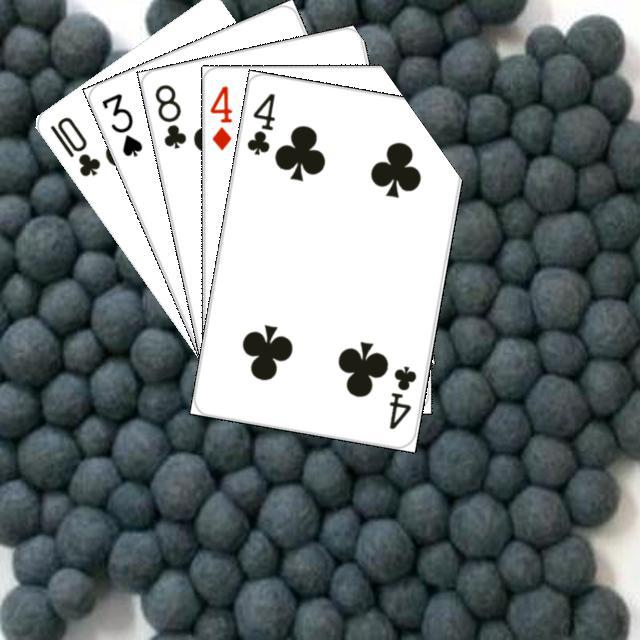10c: (45, 111, 102, 179)
3s: (97, 88, 145, 159)
4c: (241, 88, 277, 157), (384, 361, 418, 431)
4d: (206, 81, 234, 152)
8c: (149, 79, 188, 151)
